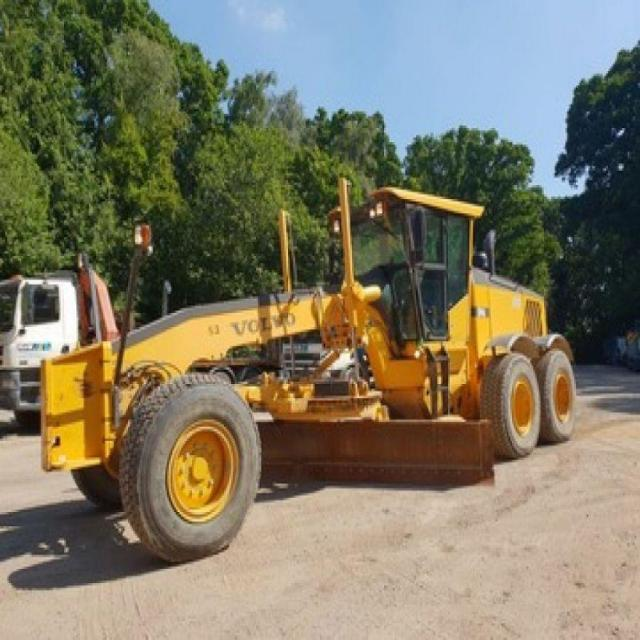Grader: (37, 166, 587, 568)
